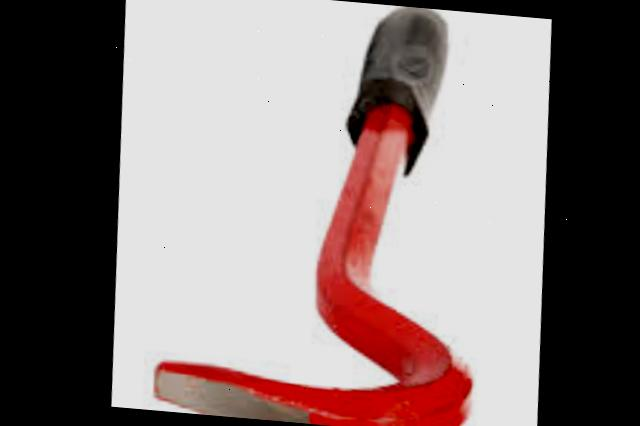crow bar: (119, 0, 515, 426)
